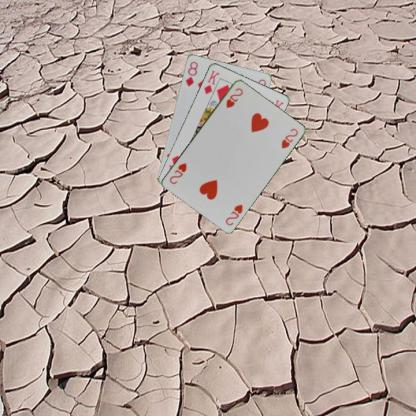2h: (223, 201, 244, 227), (224, 85, 244, 109)
8d: (183, 59, 199, 87)
Kd: (201, 68, 221, 95)
